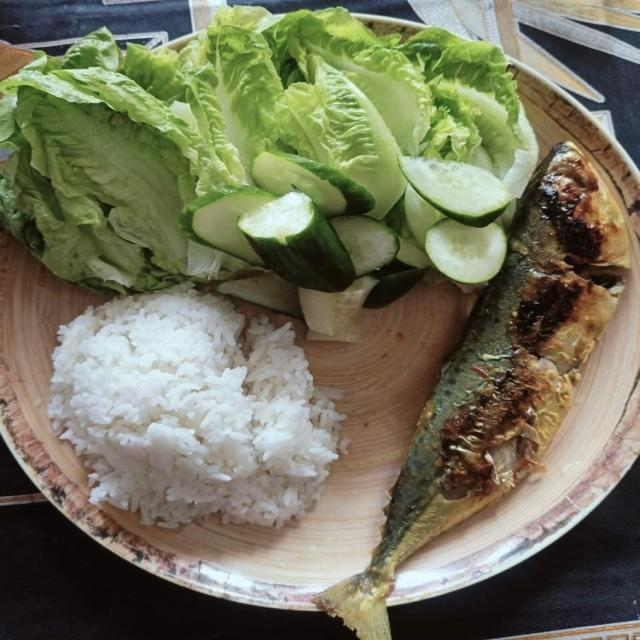Fish: (315, 141, 634, 639)
Plate: (0, 236, 472, 609)
Rice: (51, 282, 348, 535)
Vegetables: (2, 7, 541, 347)
